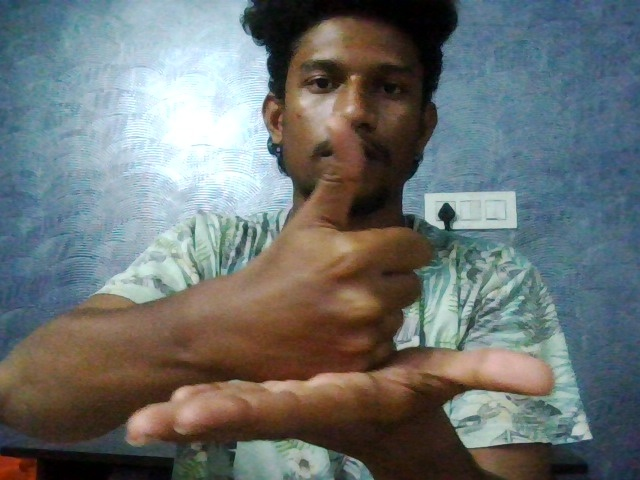help: (109, 115, 575, 464)
